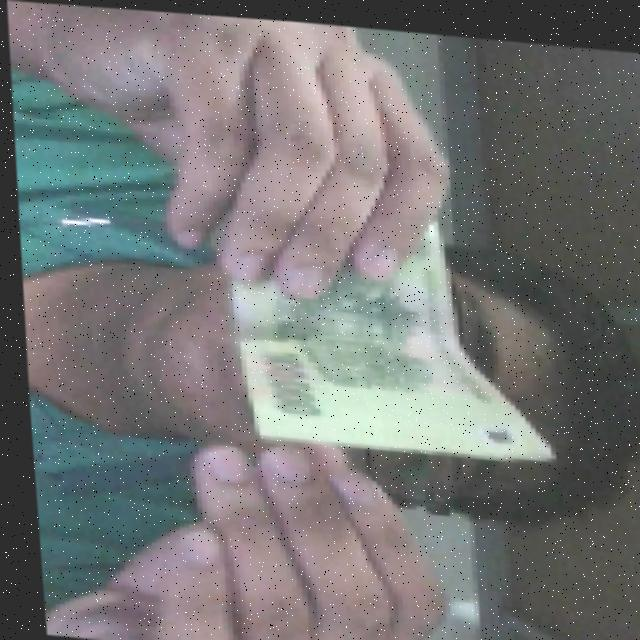100 000 VND: (209, 191, 558, 465)
